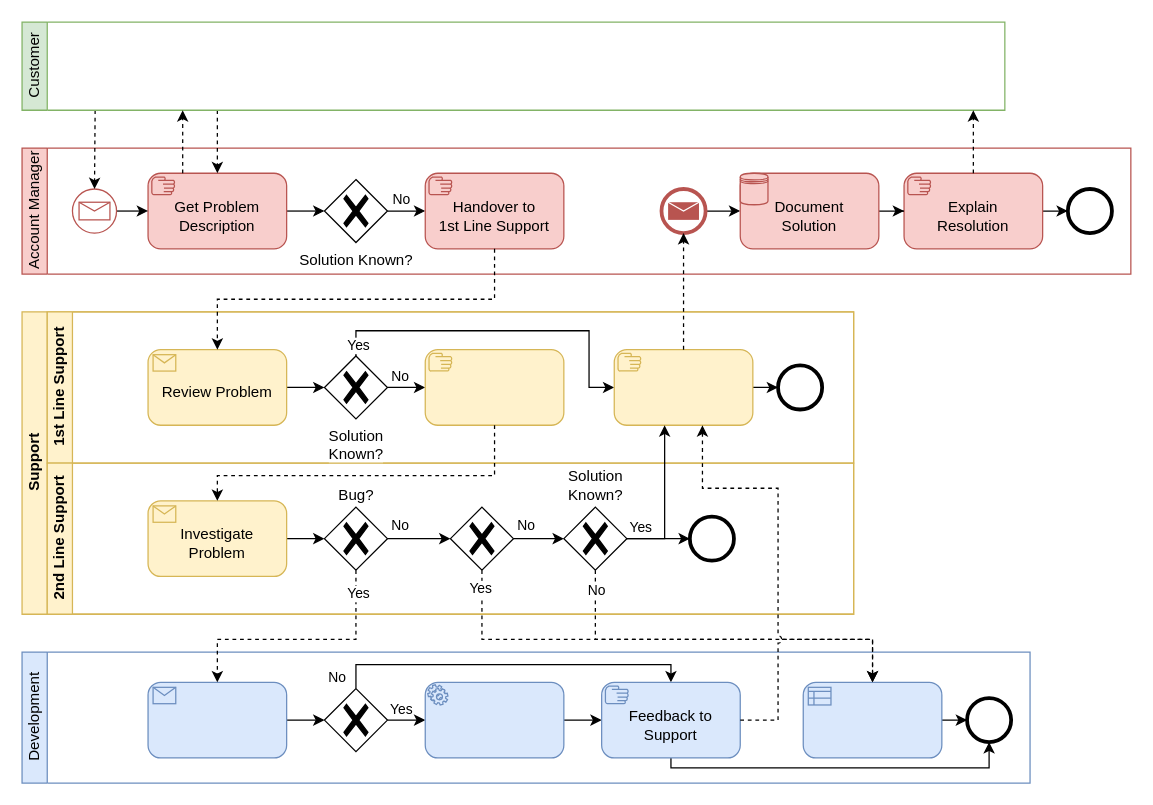
This 1153x805 diagram has some shape labels left out. The shapes that lost their labels are listed below. From the top down, each one's centre as x and y in pixels, then its label:
At [94,210]: "Problem".
At [494,386]: "Handover to 2nd Line Support".
At [683,386]: "Describe Resolution".
At [481,538]: "Feature Request?".
At [217,719]: "Bug report".
At [355,719]: "Patch needed?".
At [494,719]: "Fix, Test, Release Patch".
At [872,719]: "Prioritise & Add to Backlog".
